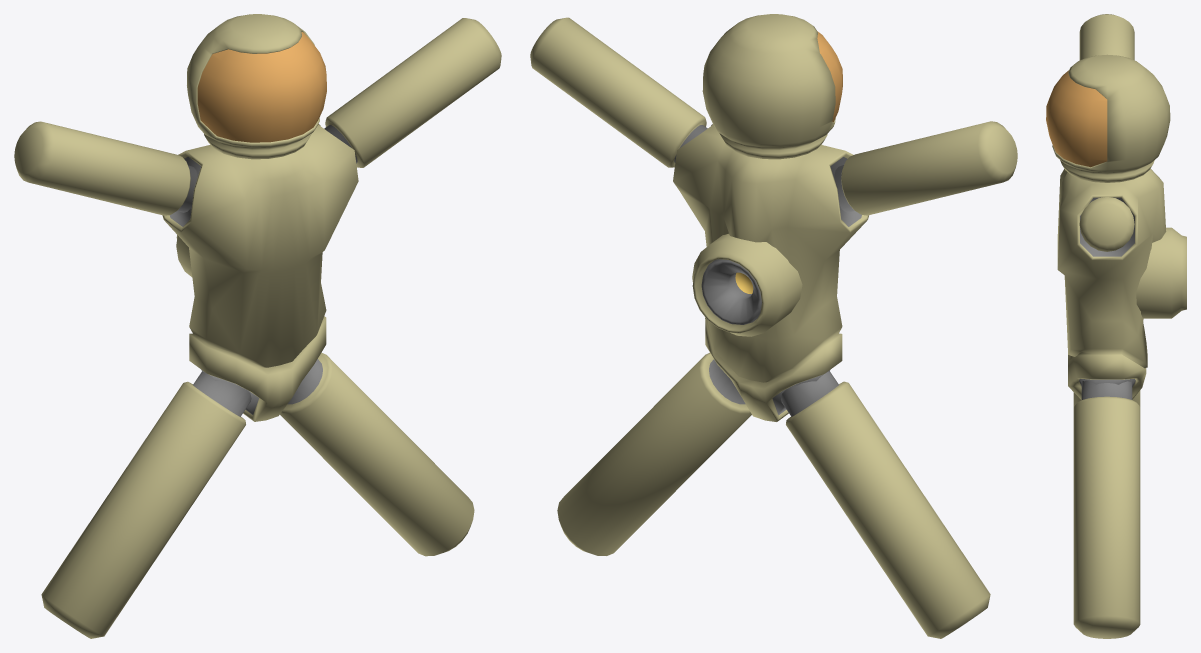
File: SpessTrace.dae
3 renders of one model, left to right at view 1: azimuth 30°, elevation 25°; view 2: azimuth 150°, elevation 25°; view 3: azimuth 270°, elevation 25°, orthographic. The views are drawn at different scales.
Parts seen in each view (by area): view 1: SpaceTrace; view 2: SpaceTrace; view 3: SpaceTrace.
Boxes of the visible parts, bbox=[...] form: SpaceTrace: bbox=[14, 14, 501, 638]; SpaceTrace: bbox=[530, 14, 1017, 638]; SpaceTrace: bbox=[1046, 14, 1186, 638].
Size of the model in its own units: 5.01 by 1.46 by 5.72.
